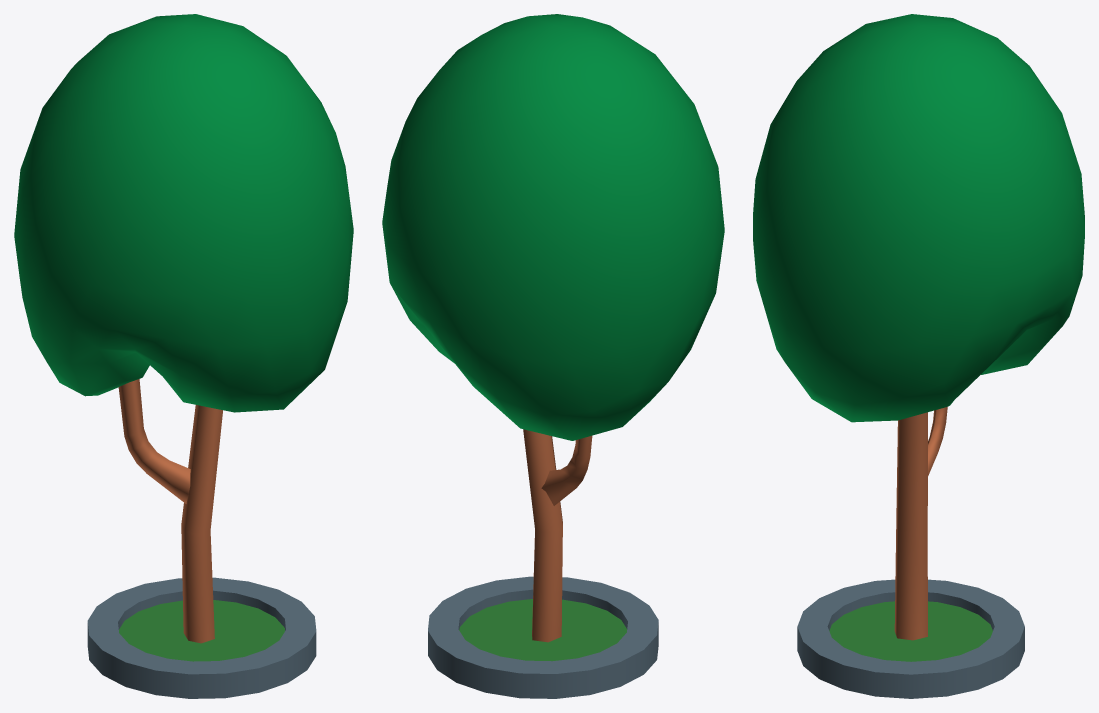
File: tree_v1.fbx
3 renders of one model, left to right at view 1: azimuth 30°, elevation 25°; view 2: azimuth 150°, elevation 25°; view 3: azimuth 270°, elevation 25°, orthographic. The views are drawn at different scales.
Parts seen in each view (by area): view 1: tree_v1; view 2: tree_v1; view 3: tree_v1.
Boxes of the visible parts, x1,y1,x2,y2 form: tree_v1: (14, 14, 353, 698); tree_v1: (382, 14, 724, 698); tree_v1: (753, 14, 1084, 698).
Bounding box in the file's own units: 210 × 431 × 210.
